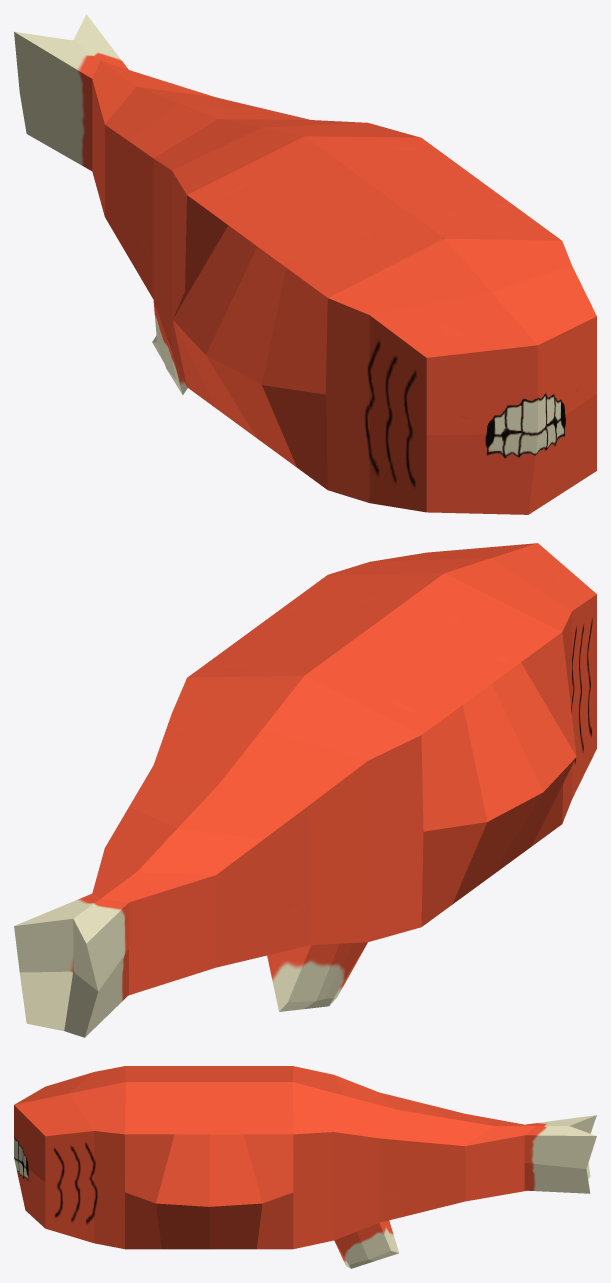
File: fish1.fbx
3 renders of one model, top to bottom at view 1: azimuth 30°, elevation 25°; view 2: azimuth 150°, elevation 25°; view 3: azimuth 270°, elevation 25°, orthographic. The views are drawn at different scales.
Parts seen in each view (by area): view 1: Cube; view 2: Cube; view 3: Cube.
Boxes of the visible parts, left/top/right/bottom form: Cube: left=14, top=14, right=596, bottom=514; Cube: left=14, top=543, right=596, bottom=1037; Cube: left=14, top=1066, right=596, bottom=1268.
Bounding box in the file's own units: 279 × 219 × 698.
Materials: 1 (1 with a texture image).
